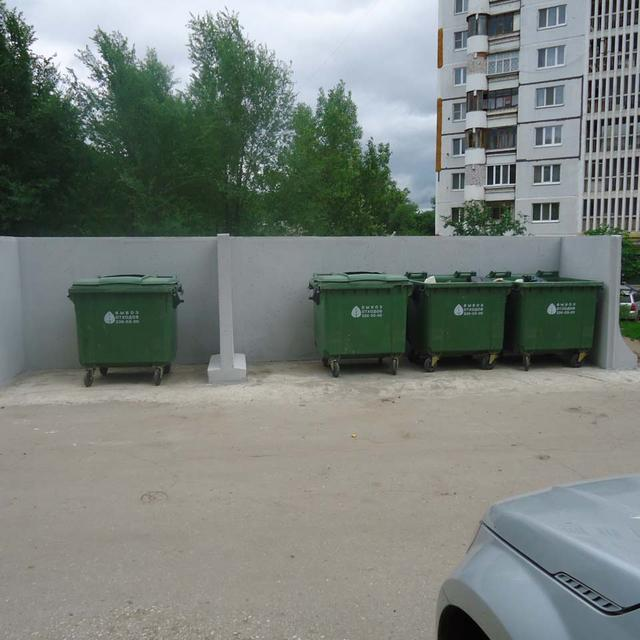Trash_Can_Closed: (68, 273, 183, 367), (312, 271, 413, 357)
Trash_Can_Empty: (409, 276, 513, 357), (508, 275, 604, 352)
